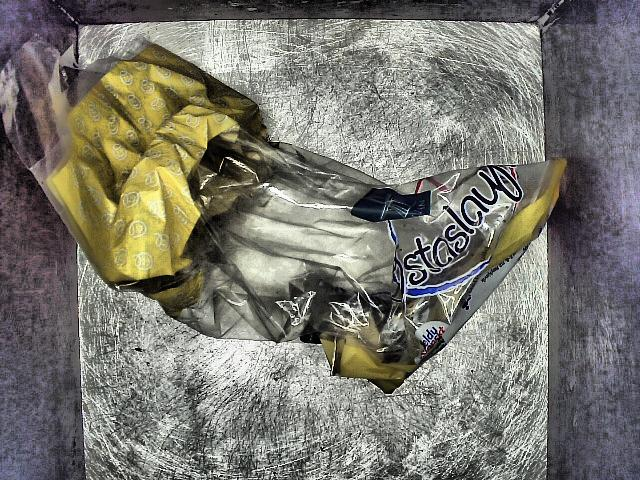Plastic: (5, 37, 611, 402)
